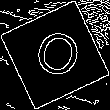O_S: (26, 24, 84, 86)
